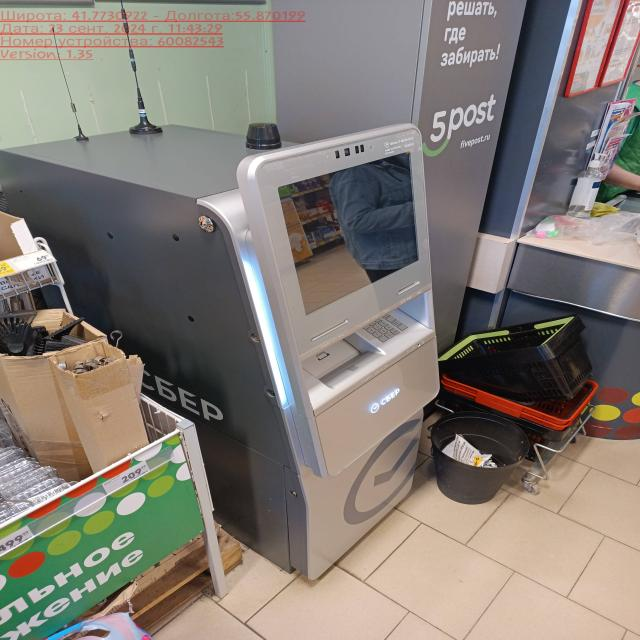bank: (0, 118, 446, 572)
